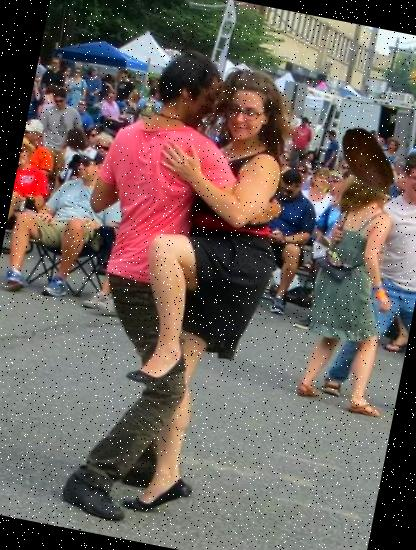Nut: (323, 117, 413, 207)
